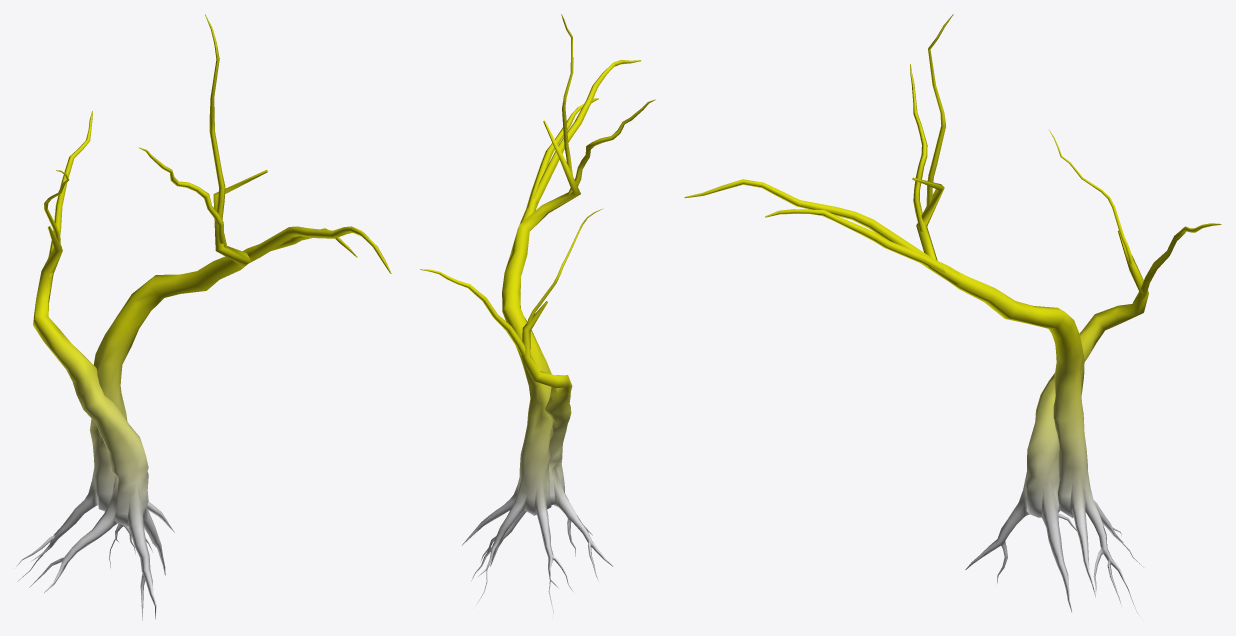
The model's file is Deadtree7.fbx.
3 views of the same model, side by side, from view 1: azimuth 30°, elevation 25°; view 2: azimuth 150°, elevation 25°; view 3: azimuth 270°, elevation 25° (orthographic). The views are drawn at different scales.
Visible parts, largest first — view 1: Deadtree7_LOD0; view 2: Deadtree7_LOD0; view 3: Deadtree7_LOD0.
Boxes of the visible parts, box(x1,y1,x2,y2) form: Deadtree7_LOD0: box(14, 14, 391, 620); Deadtree7_LOD0: box(420, 14, 655, 618); Deadtree7_LOD0: box(684, 14, 1221, 620).
Size of what is drawn, in the model's own units: 294 by 1041 by 836.
